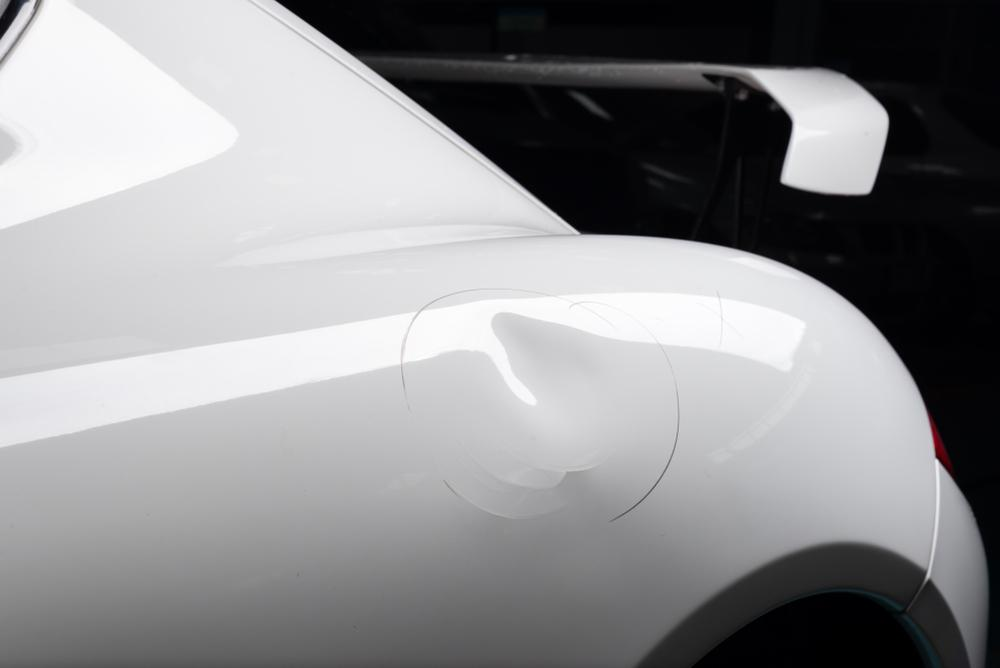dent: (446, 310, 631, 488)
